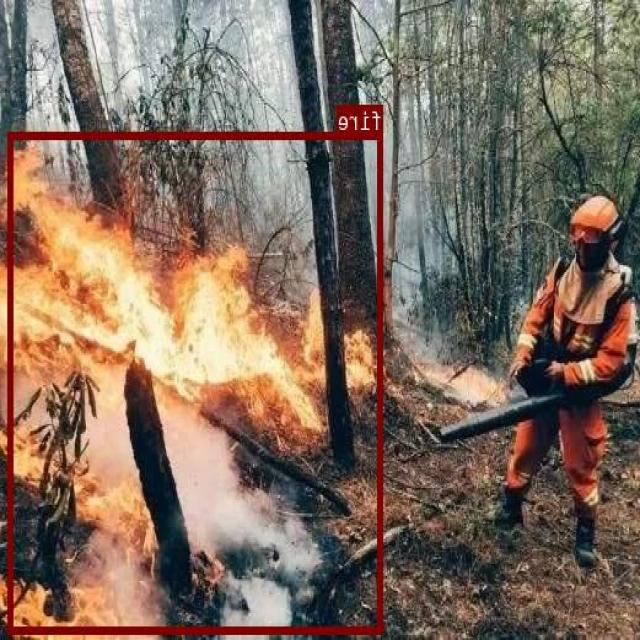fire: (9, 130, 384, 632)
